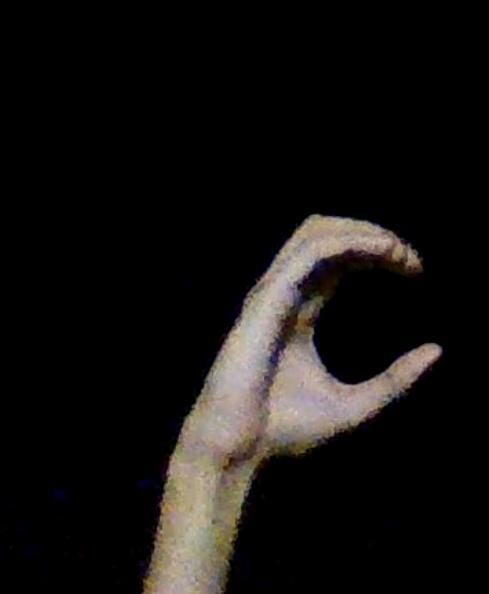c: (216, 213, 444, 459)
